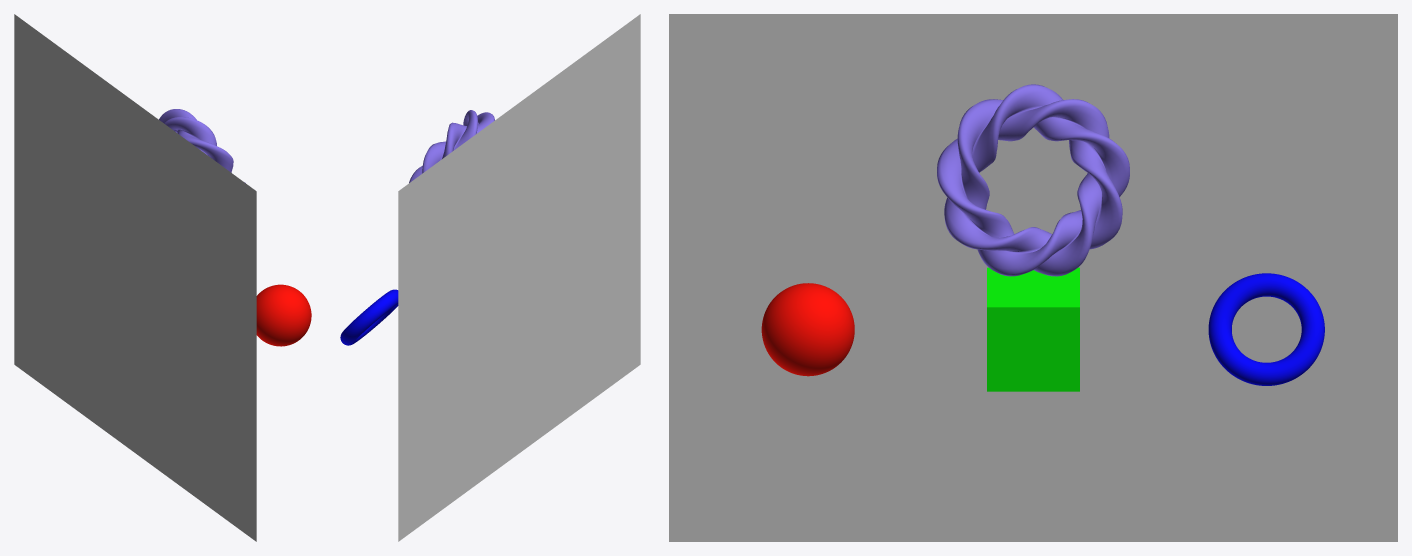
Rendered from ColorTest.gltf.
3 views of the same model, side by side, from view 1: azimuth 30°, elevation 25°; view 2: azimuth 150°, elevation 25°; view 3: azimuth 270°, elevation 25° (orthographic). The views are drawn at different scales.
Parts seen in each view (by area): view 1: Plane, Icosphere, XYZ Function; view 2: Plane, XYZ Function, Torus; view 3: Plane, XYZ Function, Cube, Icosphere, Torus.
Boxes of the visible parts, x1,y1,x2,y2 form: Plane: (14,14,256,541); Icosphere: (256,284,311,346); XYZ Function: (159,109,245,182); Plane: (398,14,640,541); XYZ Function: (409,110,494,182); Torus: (340,289,398,345); Plane: (669,14,1397,541); XYZ Function: (937,84,1129,276); Cube: (987,267,1079,391); Icosphere: (761,283,854,376); Torus: (1208,273,1324,385).
Size of the model in its own units: 3.73 by 12.52 by 15.66.
